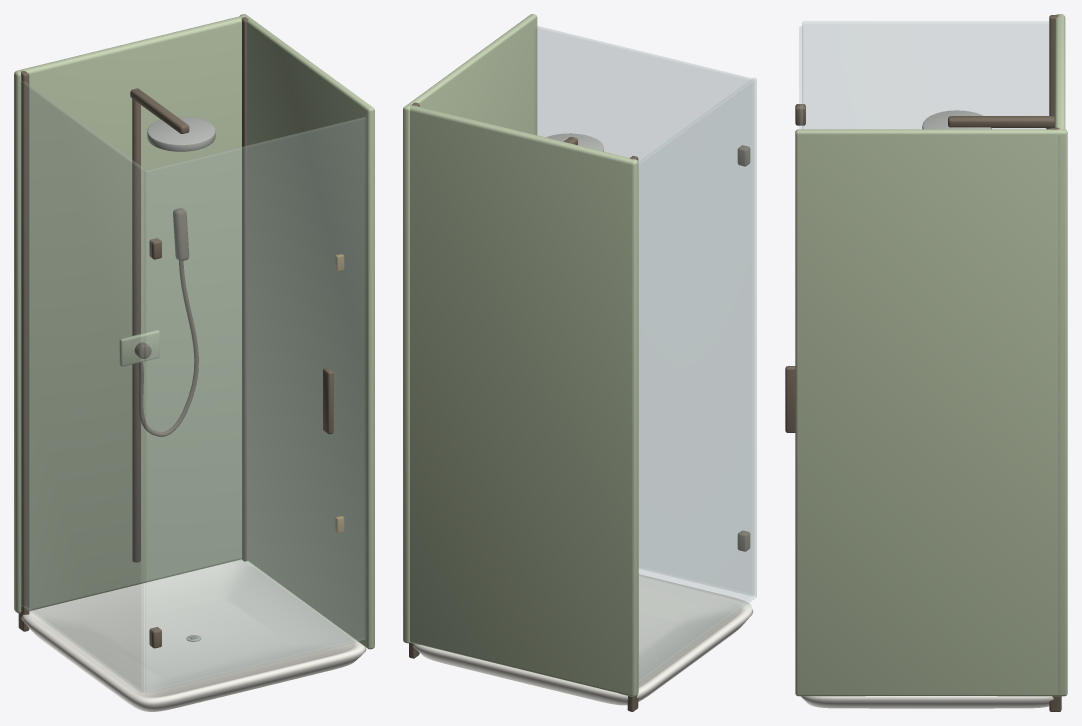
File: corner-shower.glb
3 views of the same model, side by side, from view 1: azimuth 30°, elevation 25°; view 2: azimuth 150°, elevation 25°; view 3: azimuth 270°, elevation 25° (orthographic). The views are drawn at different scales.
Parts seen in each view (by area): view 1: corner-shower; view 2: corner-shower; view 3: corner-shower.
Part boxes in pixels (x1,y1,x2,y2): corner-shower: (14, 14, 374, 711); corner-shower: (403, 14, 756, 711); corner-shower: (785, 14, 1067, 711).
Bounding box in the file's own units: 0.9 × 2.05 × 0.9.
